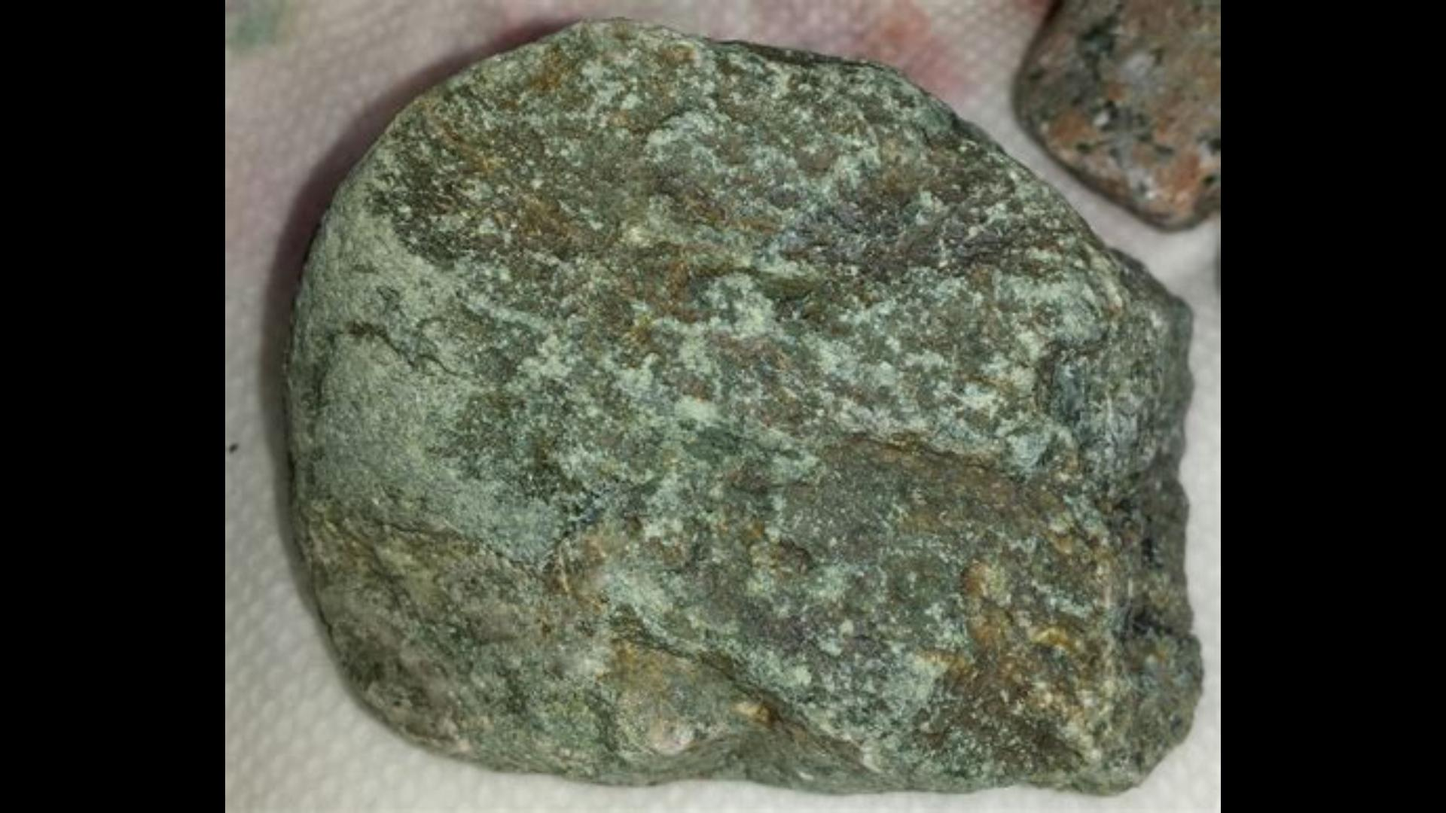rock: (288, 21, 1188, 790)
